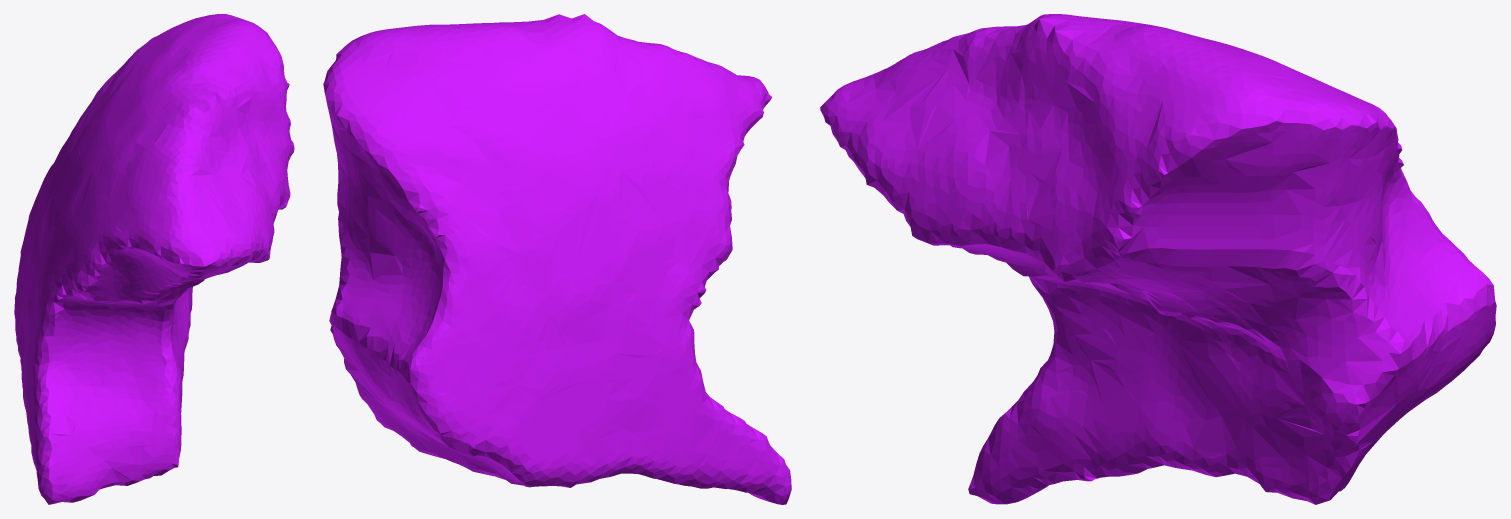
The model's file is Model_10126_LH__Superior_temporal_rostral__area_(STR).obj.
3 views of the same model, side by side, from view 1: azimuth 30°, elevation 25°; view 2: azimuth 150°, elevation 25°; view 3: azimuth 270°, elevation 25° (orthographic). The views are drawn at different scales.
Size of the model in its own units: 3.59 by 4.3 by 4.66.
